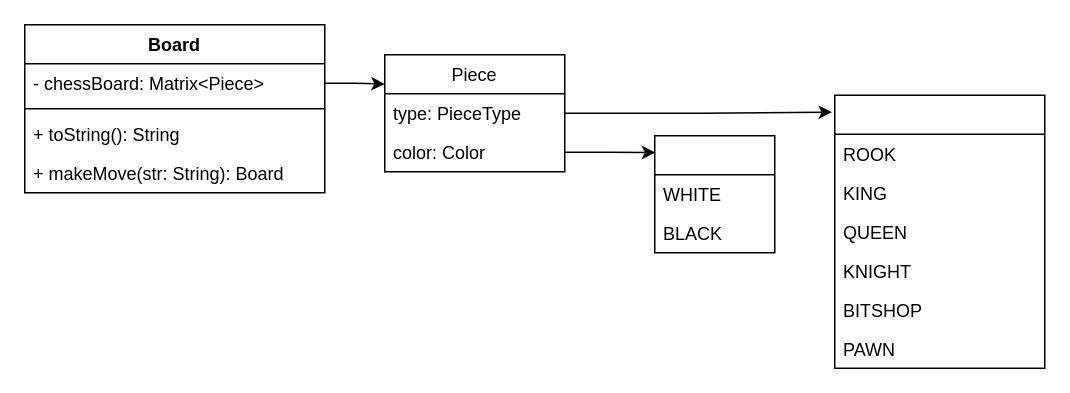
The diagram is 1070 pixels wide and 393 high, and some of its shapes have lost their labels. The shapes that lost their labels are listed below. From the top down, each one's box as (x1, y1, x2, y2) in pixels, then its label:
(653, 134, 775, 253): Color
(833, 94, 1045, 368): PieceType
